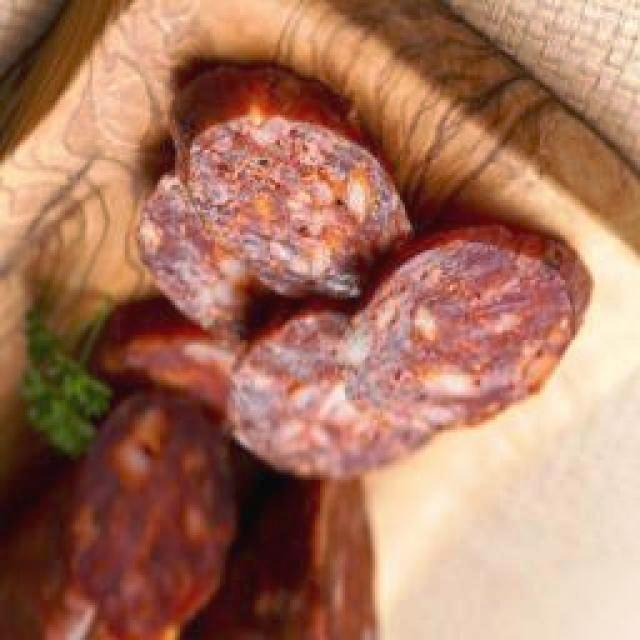chinese_sausage: (89, 62, 593, 481)
